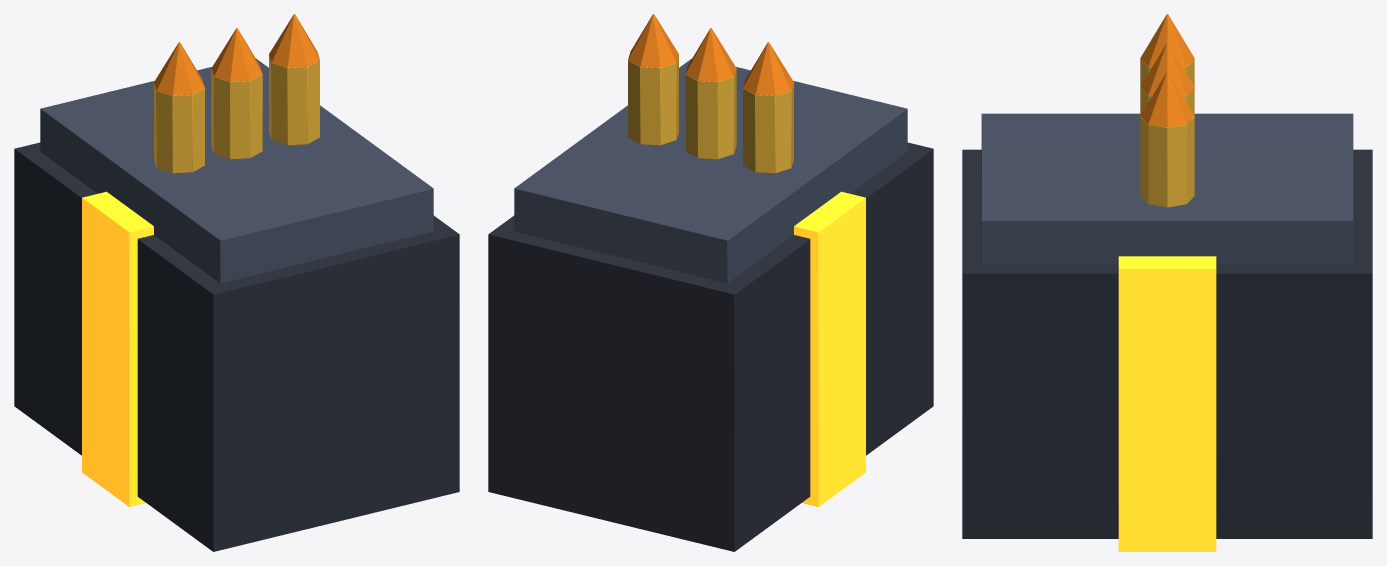
File: pickup_ammo_large.glb
3 renders of one model, left to right at view 1: azimuth 30°, elevation 25°; view 2: azimuth 150°, elevation 25°; view 3: azimuth 270°, elevation 25°, orthographic. The views are drawn at different scales.
Parts seen in each view (by area): view 1: pickup_ammo_large; view 2: pickup_ammo_large; view 3: pickup_ammo_large.
Boxes of the visible parts, x1,y1,x2,y2 form: pickup_ammo_large: [14, 14, 459, 551]; pickup_ammo_large: [488, 14, 933, 551]; pickup_ammo_large: [962, 14, 1372, 551].
Bounding box in the file's own units: 0.448 × 0.7 × 0.588.
